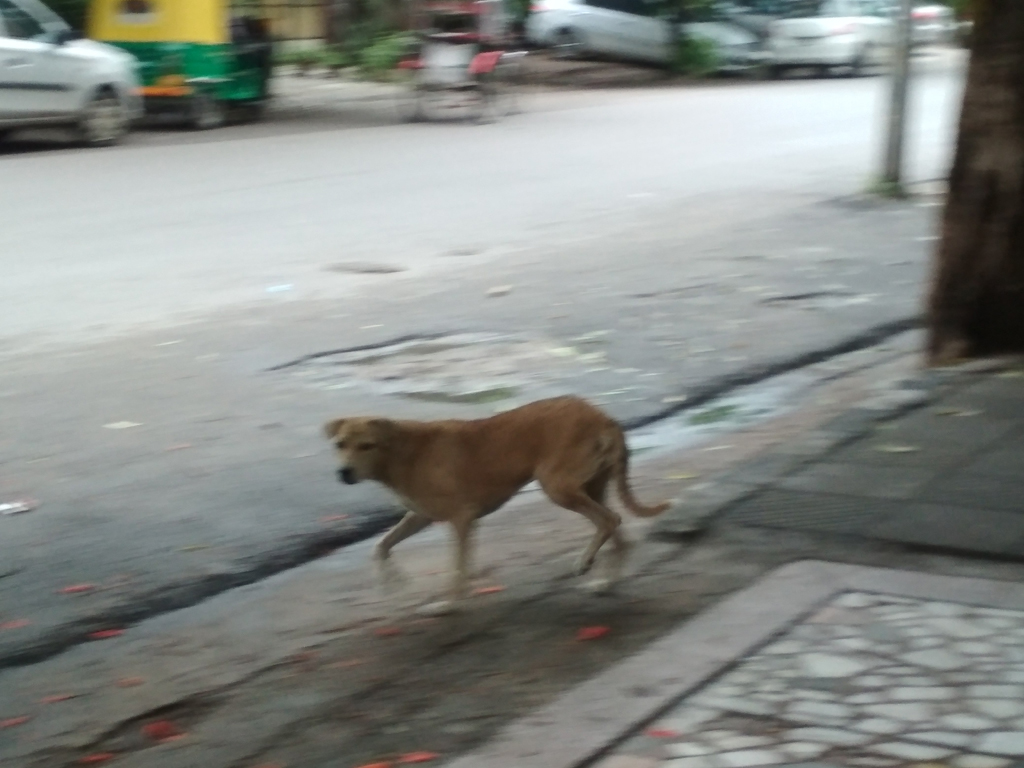dog: (320, 395, 675, 617)
